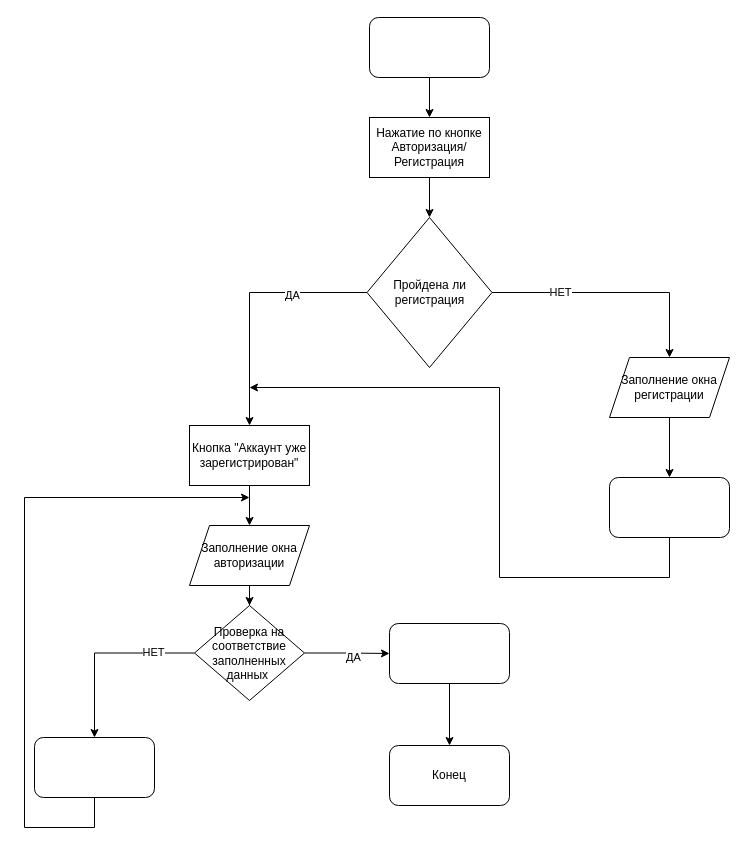
The diagram is 747 pixels wide and 853 high, and some of its shapes have lost their labels. Here are the shapes that lost their labels. From the top down, the centre of each, then its label:
At (429,47): "Начало".
At (669,507): "Окно с текстом говорящем об успешной регистрации".
At (449,653): "Окно с текстом говорящем об успешной авторизации".
At (94,767): "Окно с текстом об ошибке".
